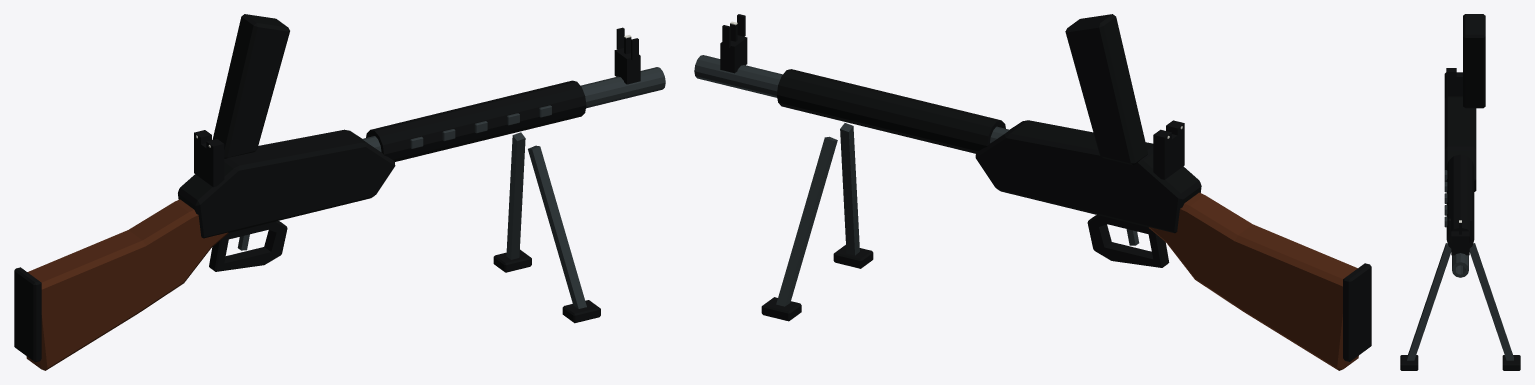
The model's file is CE_Gun_MadsenLMG.obj.
3 views of the same model, side by side, from view 1: azimuth 30°, elevation 25°; view 2: azimuth 150°, elevation 25°; view 3: azimuth 270°, elevation 25° (orthographic). The views are drawn at different scales.
Visible parts, largest first — view 1: MadsenLMG_individually_shaped_stock_and_bedding, MadsenLMG_contoured_receiver, Madsen_barrel_jacket, Madsen_offset_top_magazine, Contoured_butt_plate, Bipod_leg.001, Shaped_trigger_guard, Hollow_gun_barrel, Bipod_leg, R3_Rear_continuous_open_notch_leaf, R3_Front_physically_seated_ramp, Bipod_shoe.001 (+1 smaller); view 2: MadsenLMG_individually_shaped_stock_and_bedding, MadsenLMG_contoured_receiver, Madsen_barrel_jacket, Madsen_offset_top_magazine, Contoured_butt_plate, Bipod_leg, Shaped_trigger_guard, Hollow_gun_barrel, Bipod_leg.001, R3_Rear_continuous_open_notch_leaf, R3_Front_physically_seated_ramp, Bipod_shoe (+1 smaller); view 3: Madsen_offset_top_magazine, Madsen_barrel_jacket, MadsenLMG_contoured_receiver, Bipod_leg, Bipod_leg.001, R3_Rear_continuous_open_notch_leaf, R3_Front_physically_seated_ramp, Hollow_gun_barrel, Bipod_shoe, Bipod_shoe.001.
Part boxes in pixels (box(x1,y1,x2,y2)): MadsenLMG_individually_shaped_stock_and_bedding: box(26, 199, 228, 370); MadsenLMG_contoured_receiver: box(178, 129, 395, 238); Madsen_barrel_jacket: box(366, 80, 586, 161); Madsen_offset_top_magazine: box(212, 14, 289, 158); Contoured_butt_plate: box(14, 267, 41, 362); Bipod_leg.001: box(528, 145, 586, 308); Shaped_trigger_guard: box(209, 221, 287, 271); Hollow_gun_barrel: box(362, 67, 665, 152); Bipod_leg: box(506, 132, 525, 259); R3_Rear_continuous_open_notch_leaf: box(194, 130, 224, 187); R3_Front_physically_seated_ramp: box(614, 48, 640, 84); Bipod_shoe.001: box(562, 300, 600, 323); MadsenLMG_individually_shaped_stock_and_bedding: box(1149, 192, 1358, 370); MadsenLMG_contoured_receiver: box(975, 120, 1201, 233); Madsen_barrel_jacket: box(777, 69, 1005, 153); Madsen_offset_top_magazine: box(1065, 14, 1147, 165); Contoured_butt_plate: box(1343, 263, 1371, 361); Bipod_leg: box(776, 136, 837, 306); Shaped_trigger_guard: box(1087, 215, 1169, 267); Hollow_gun_barrel: box(694, 55, 1009, 143); Bipod_leg.001: box(840, 123, 859, 255); R3_Rear_continuous_open_notch_leaf: box(1153, 120, 1184, 179); R3_Front_physically_seated_ramp: box(720, 35, 747, 73); Bipod_shoe: box(761, 297, 801, 321); Madsen_offset_top_magazine: box(1463, 14, 1485, 108); Madsen_barrel_jacket: box(1446, 154, 1474, 248); MadsenLMG_contoured_receiver: box(1444, 96, 1476, 191); Bipod_leg: box(1469, 243, 1513, 360); Bipod_leg.001: box(1407, 243, 1451, 360); R3_Rear_continuous_open_notch_leaf: box(1446, 68, 1462, 96); R3_Front_physically_seated_ramp: box(1451, 231, 1469, 255); Hollow_gun_barrel: box(1452, 253, 1468, 277); Bipod_shoe: box(1502, 355, 1520, 370); Bipod_shoe.001: box(1400, 355, 1418, 370).
Size of the model in its own units: 1.38 by 0.6979 by 0.306.
